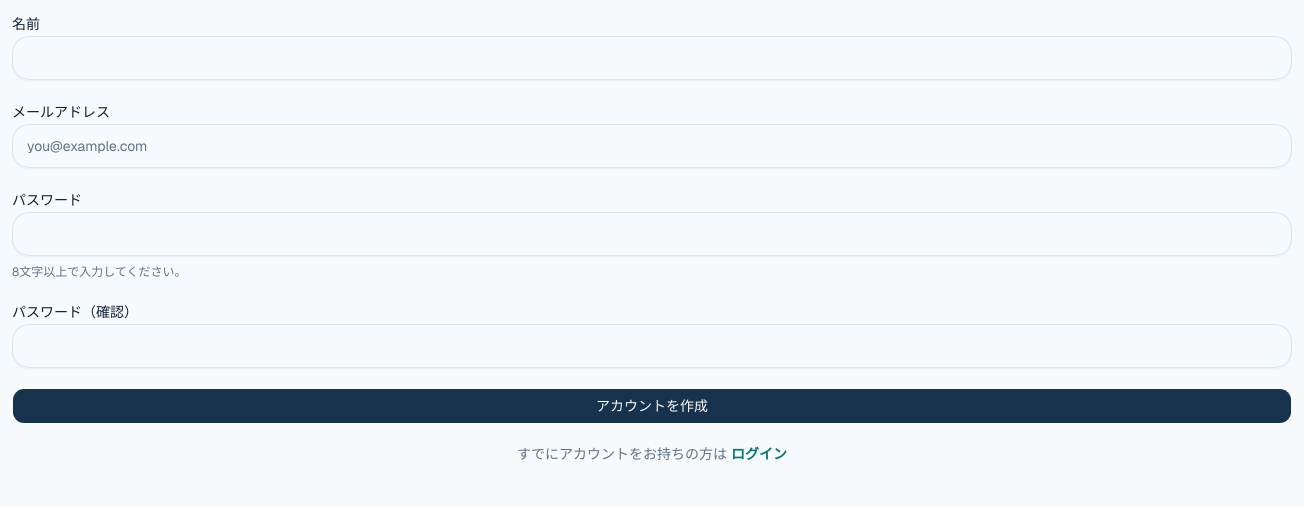
Test: RegisterForm › 確認用パスワードが一致しない場合_入力エラーを表示すること
Type "Test User" into the field labelled "名前".
click(652, 58); type("Test User")  # box x1=12 y1=36 x2=1292 y2=80
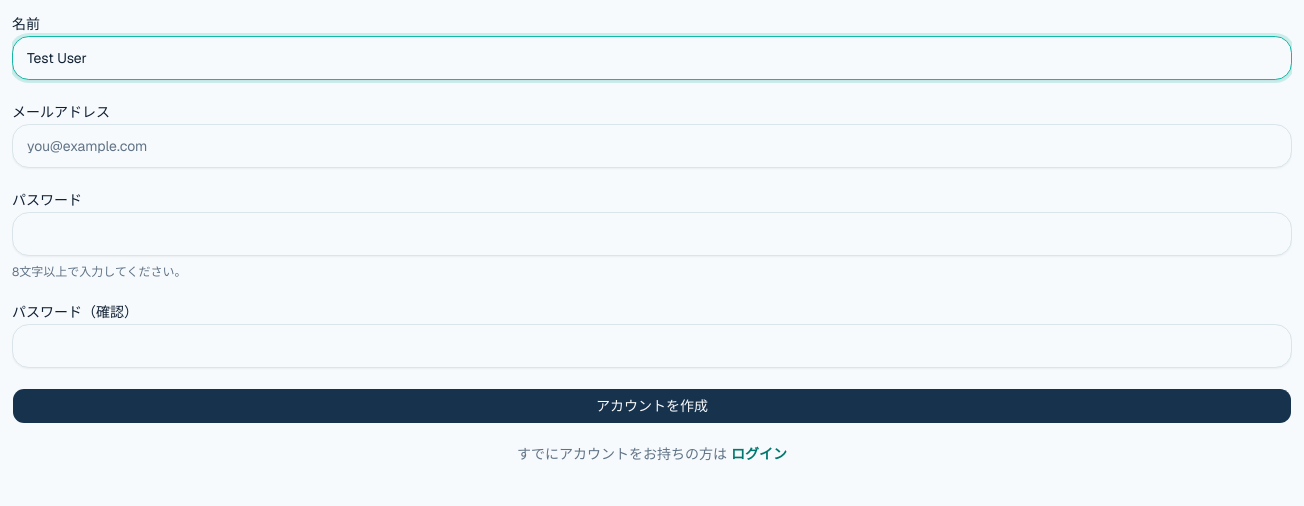
Type "user@example.com" into the field labelled "メールアドレス".
click(652, 146); type("user@example.com")  # box x1=12 y1=124 x2=1292 y2=168
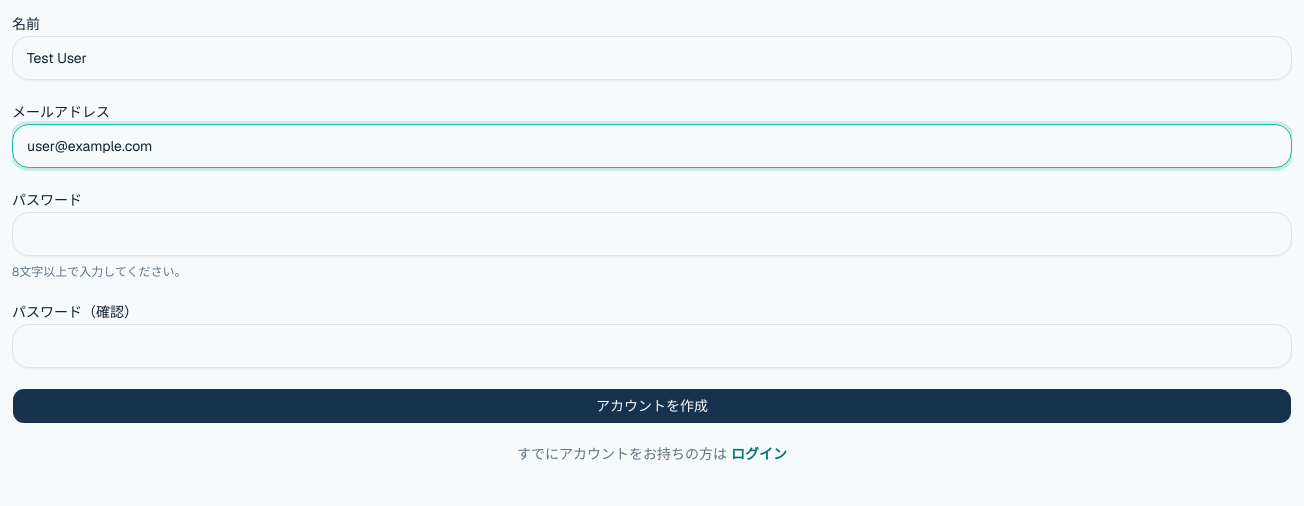
Type "password123" into the password field labelled "パスワード".
click(652, 234); type("password123")  # box x1=12 y1=212 x2=1292 y2=256
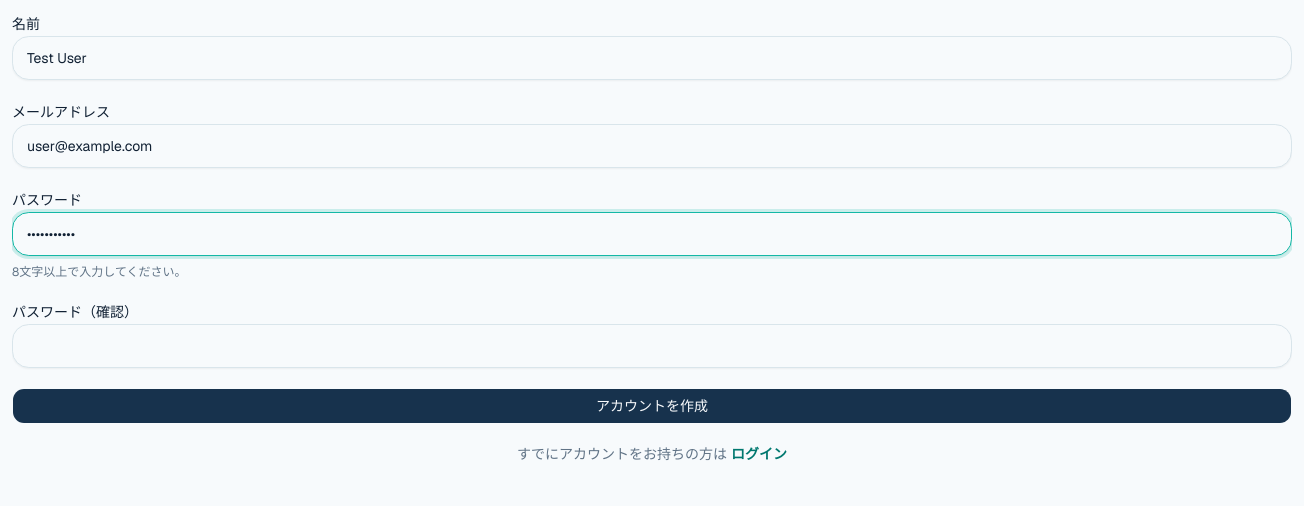
Type "different-password" into the password field labelled "パスワード（確認）".
click(652, 346); type("different-password")  # box x1=12 y1=324 x2=1292 y2=368
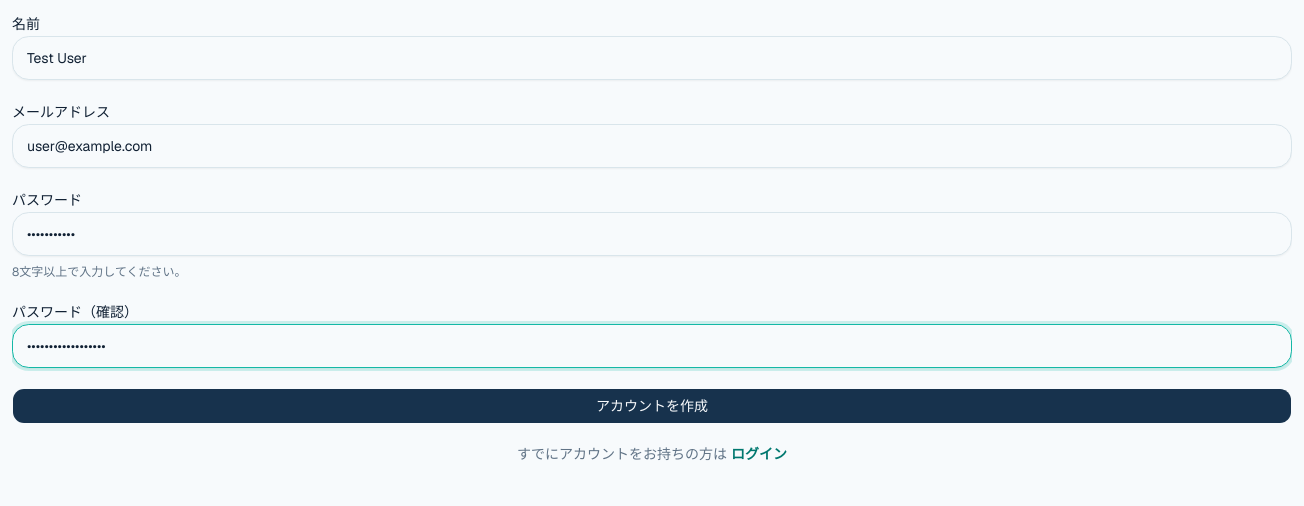
Click the button "アカウントを作成".
click(652, 406)  # box x1=12 y1=388 x2=1292 y2=424
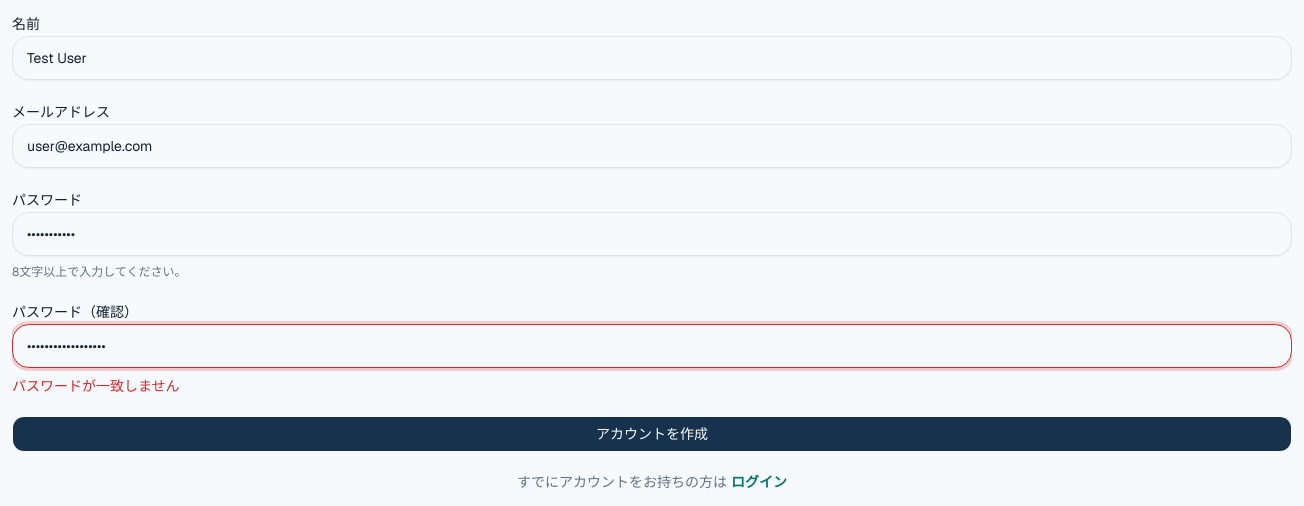
Now the text "パスワードが一致しません" is shown, box x1=12 y1=377 x2=180 y2=395
